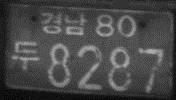0: (117, 13, 137, 38)
2: (77, 44, 103, 92)
7: (136, 46, 165, 94)
8: (108, 45, 133, 92), (47, 42, 71, 88), (96, 12, 114, 39)
경남_O: (39, 11, 87, 36)
두: (10, 39, 39, 70)
